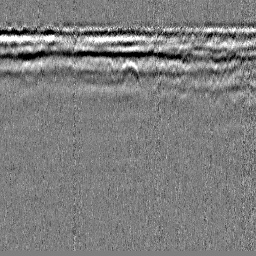cavity: (116, 59, 142, 88)
